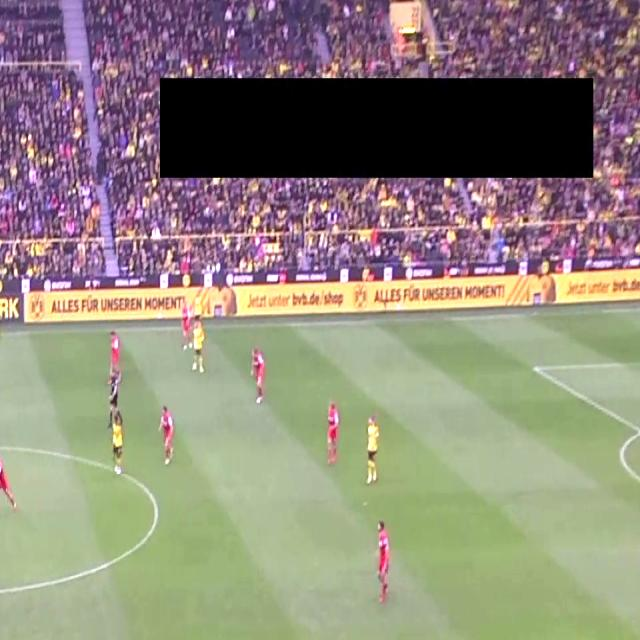referee: (101, 361, 125, 429)
soccer-player: (370, 517, 403, 613), (106, 398, 134, 484), (358, 408, 388, 488), (321, 395, 349, 472), (186, 309, 212, 378), (154, 400, 179, 471), (249, 343, 274, 411), (0, 452, 17, 516), (108, 327, 124, 383)
